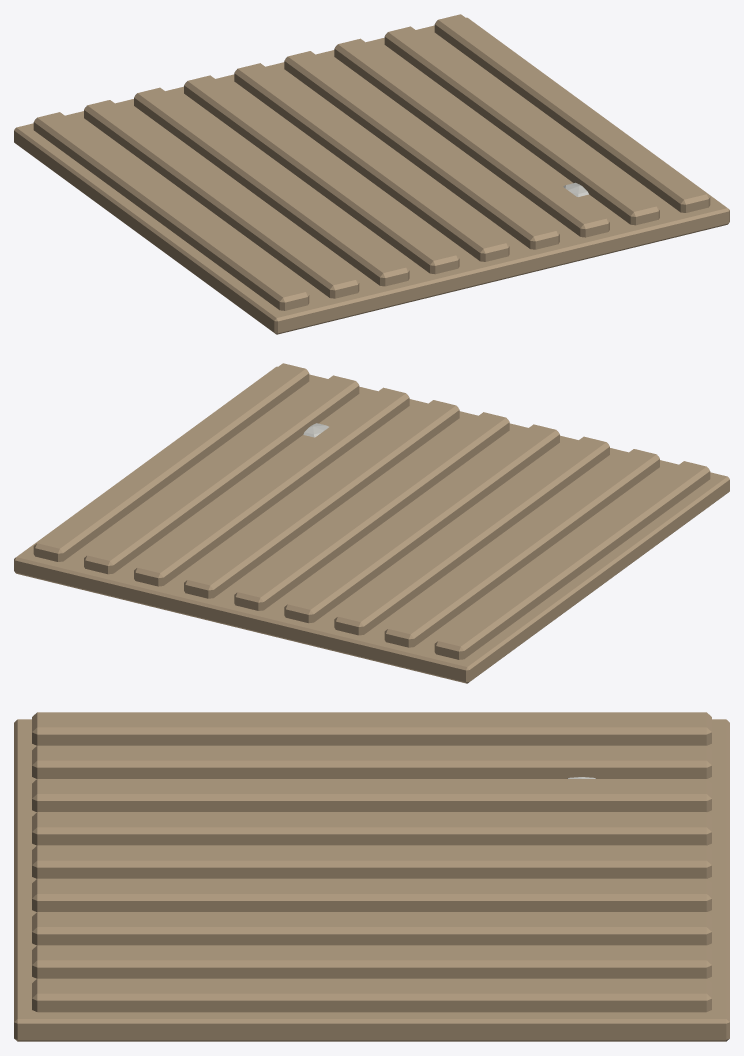
File: town_ploughed_field_tile.glb
The picture shows the model from 3 angles, top to bottom: view 1: azimuth 30°, elevation 25°; view 2: azimuth 150°, elevation 25°; view 3: azimuth 270°, elevation 25°; orthographic projection. The views are drawn at different scales.
Parts seen in each view (by area): view 1: world; view 2: world; view 3: world.
Part boxes in pixels (x1=…): world: x1=14, y1=14, x2=729, y2=334; world: x1=14, y1=363, x2=729, y2=683; world: x1=14, y1=712, x2=729, y2=1041.
Bounding box in the file's own units: 2 × 0.1199 × 2.
